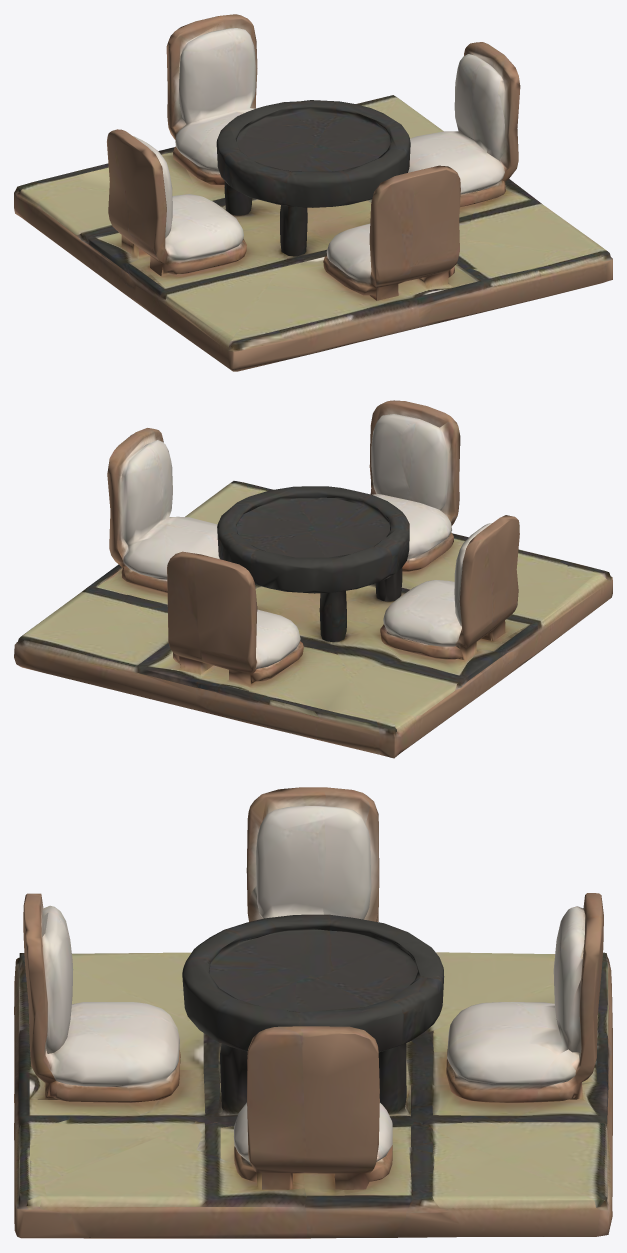
The model's file is JP_사물_s2_seat_zashiki.glb.
3 views of the same model, one above another, from view 1: azimuth 30°, elevation 25°; view 2: azimuth 150°, elevation 25°; view 3: azimuth 270°, elevation 25° (orthographic). The views are drawn at different scales.
Visible parts, largest first — view 1: tripo_node_b92bff8a-eb7e-4d93-a5dd-764b368d64d6; view 2: tripo_node_b92bff8a-eb7e-4d93-a5dd-764b368d64d6; view 3: tripo_node_b92bff8a-eb7e-4d93-a5dd-764b368d64d6.
Part boxes in pixels (box(x1,y1,x2,y2)): tripo_node_b92bff8a-eb7e-4d93-a5dd-764b368d64d6: box(14, 14, 612, 371); tripo_node_b92bff8a-eb7e-4d93-a5dd-764b368d64d6: box(14, 400, 612, 758); tripo_node_b92bff8a-eb7e-4d93-a5dd-764b368d64d6: box(14, 787, 612, 1238).
Size of the model in its own units: 2.6 by 0.982 by 2.6.
Materials: 1 (1 with a texture image).
